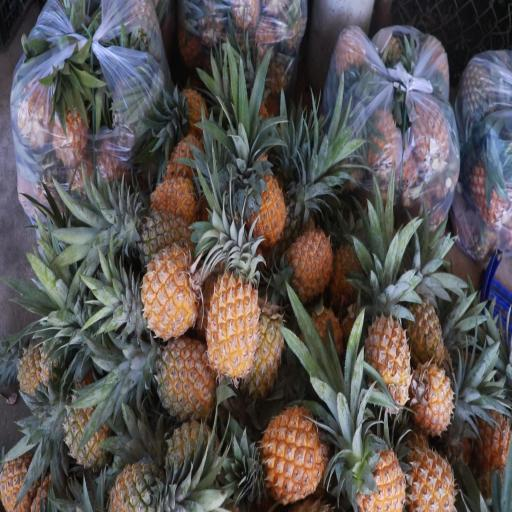------------------------------: (60, 386, 113, 474), (134, 210, 193, 274)
Pineapple - v8 v1: (203, 252, 262, 387), (258, 398, 328, 508), (139, 336, 218, 422), (135, 242, 199, 343), (364, 292, 410, 420), (275, 220, 334, 306), (344, 439, 411, 512), (403, 433, 458, 512), (398, 290, 446, 369), (244, 164, 288, 250), (144, 170, 198, 233), (411, 357, 454, 436), (108, 458, 170, 512), (2, 447, 36, 512)
